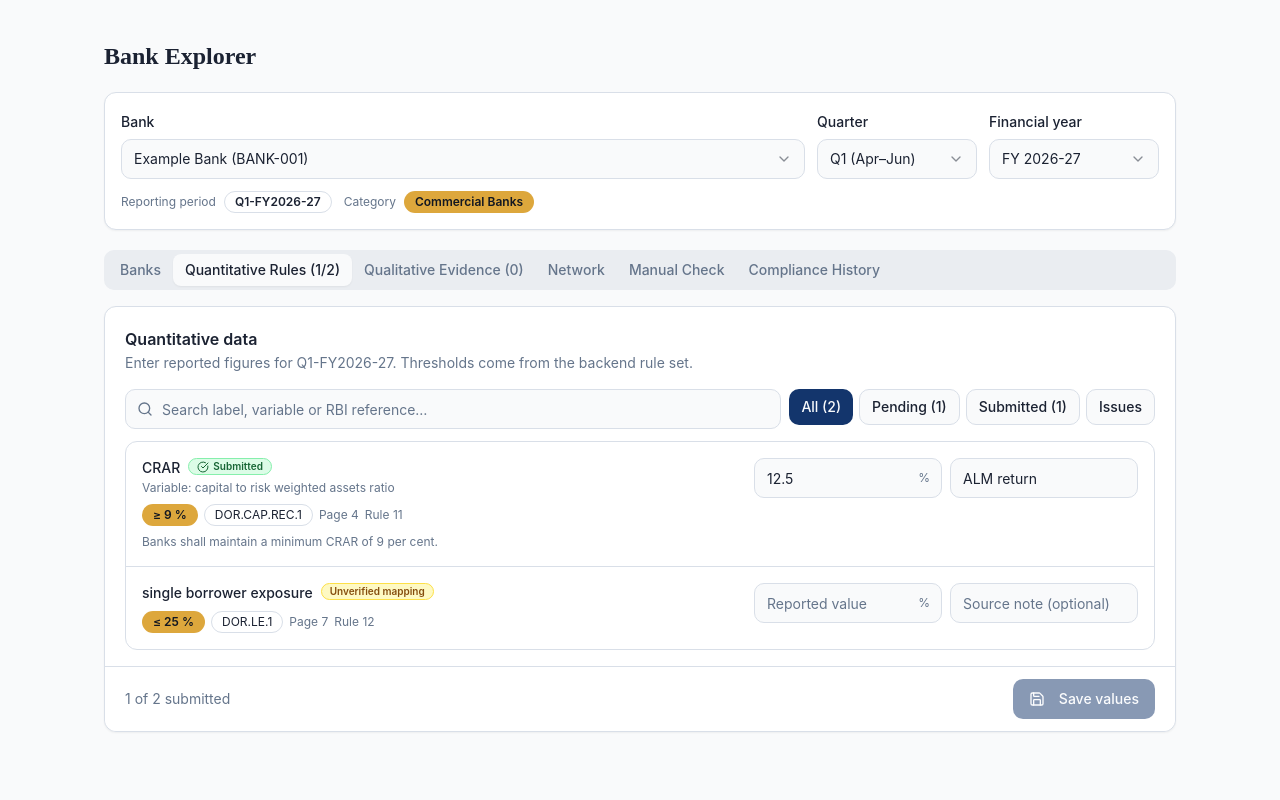
it: CompliancePage › submits changed values and shows field errors and anomaly flags
The width and height of the screenshot is (1280, 800).
Replace the text in the field named "Reported value for CRAR" with "8": [848, 478] box [754, 458, 942, 498]
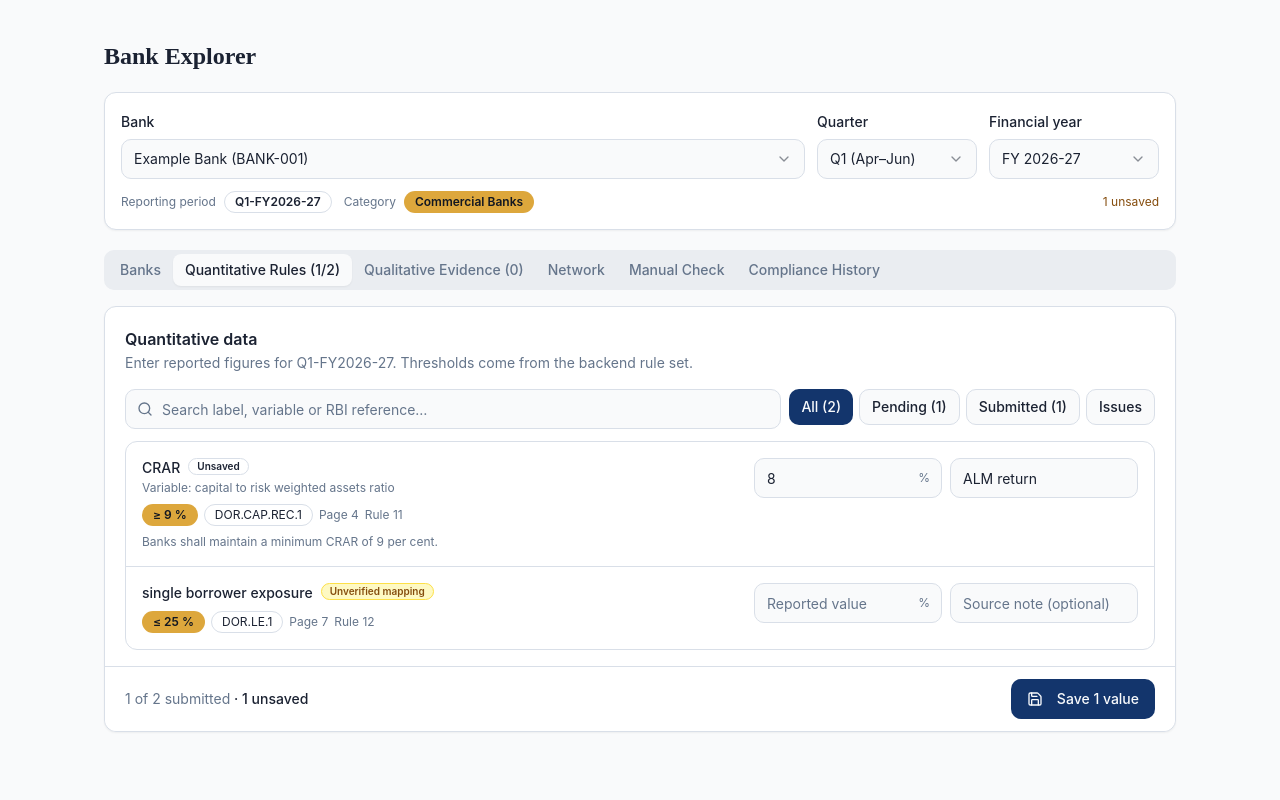
In the field named "Reported value for single borrower exposure": [848, 603] box [754, 583, 942, 623], type "300"
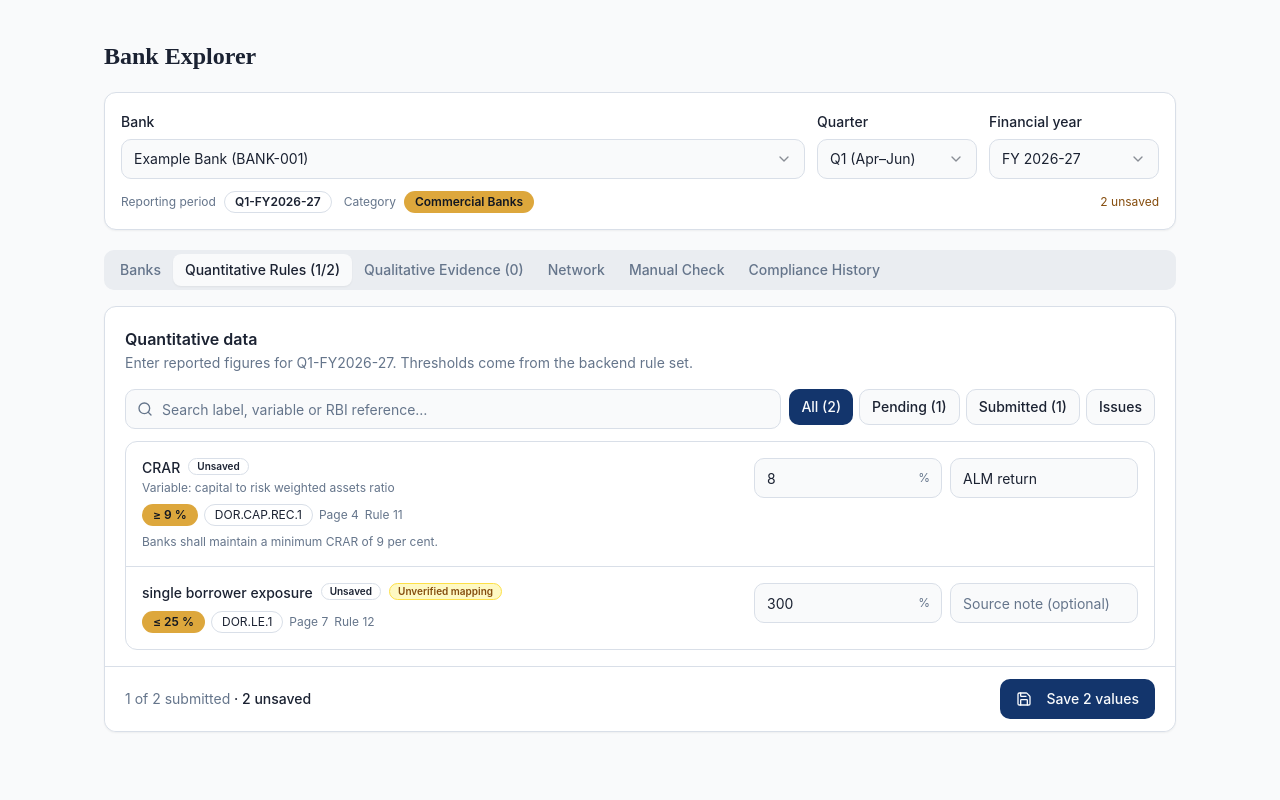
Click the button "Save 2 values": [1078, 699] box [1000, 679, 1155, 719]
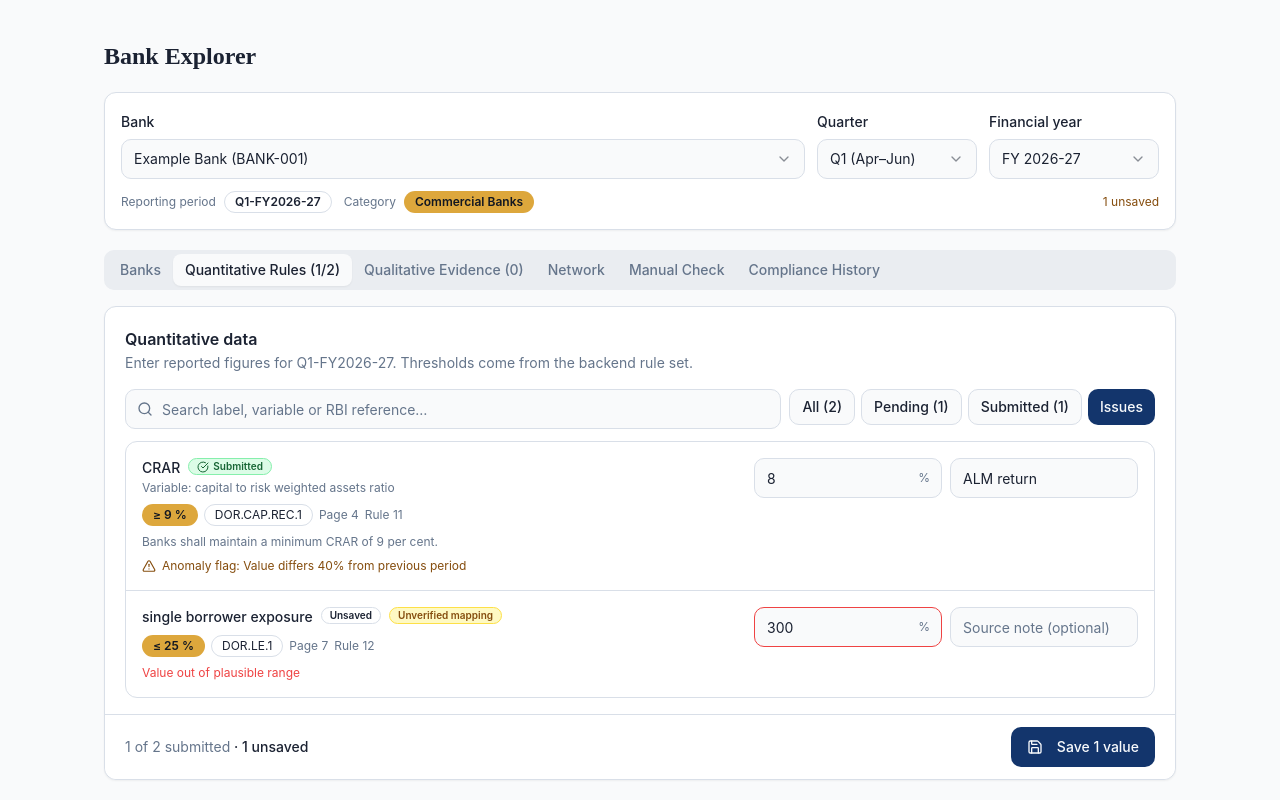
expect the text "Value out of plausible range" is shown: met, box [142, 665, 300, 680]
expect the text "Anomaly flag: Value differs 40% from previous period" is shown: met, box [162, 558, 466, 574]
